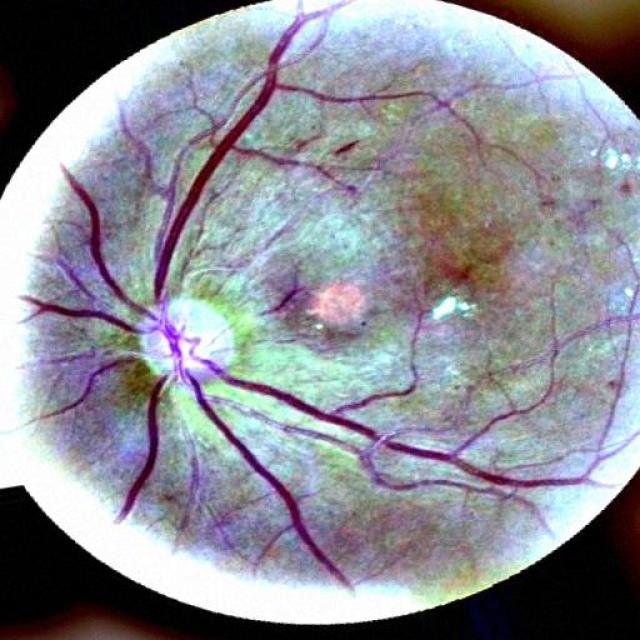Macula: (436, 254, 494, 292)
Nerves: (22, 0, 620, 589), (40, 350, 140, 418), (180, 431, 202, 529)
Optic Disk: (140, 300, 234, 388)
